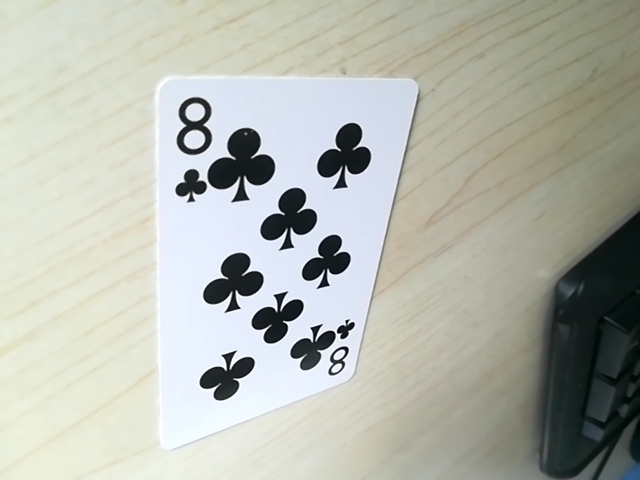mh 8: (164, 90, 227, 205), (307, 328, 357, 381)
